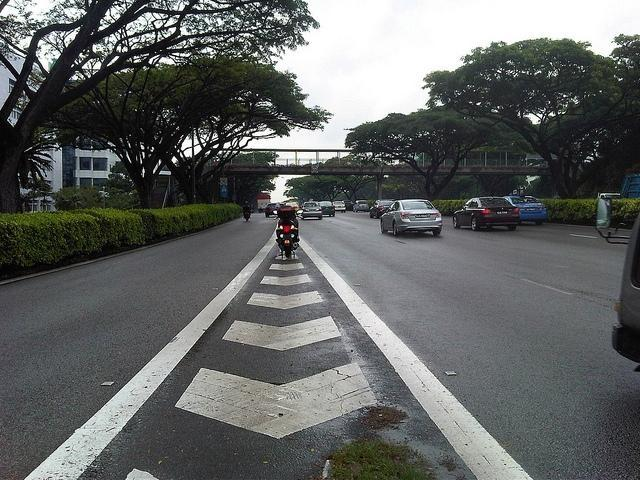car: (380, 199, 442, 237), (452, 197, 519, 232), (508, 194, 546, 224), (300, 201, 322, 221), (370, 200, 394, 218), (319, 201, 336, 217), (332, 200, 347, 214), (353, 200, 369, 213), (342, 199, 354, 210)
motorcycle: (276, 218, 300, 254)
